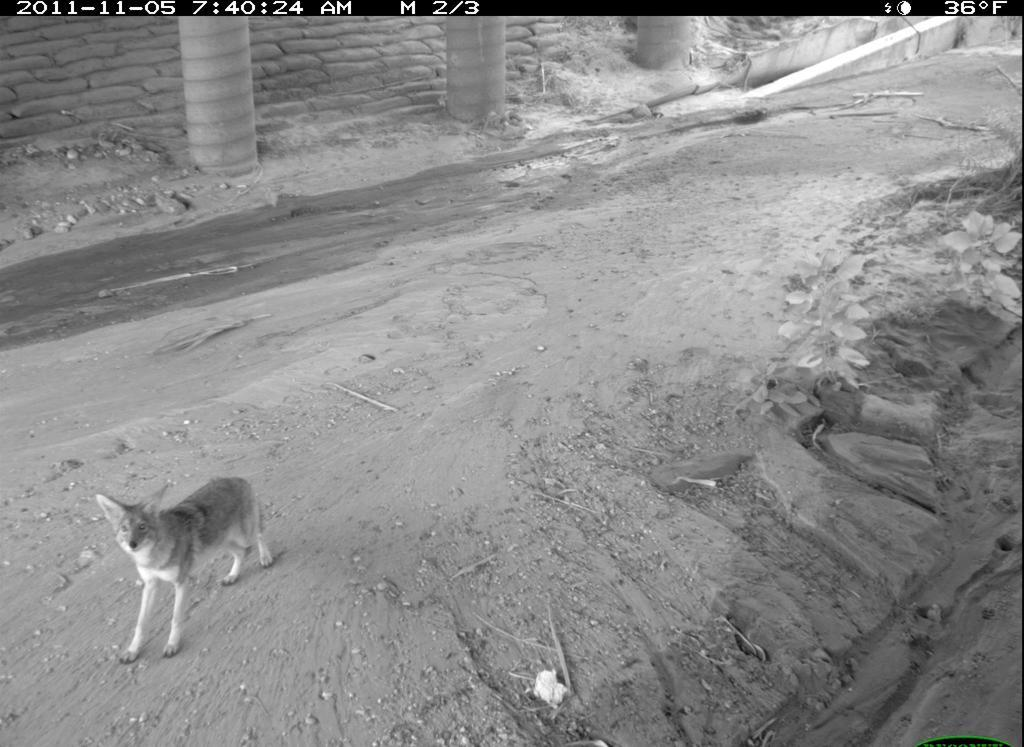coyote: (92, 474, 277, 668)
